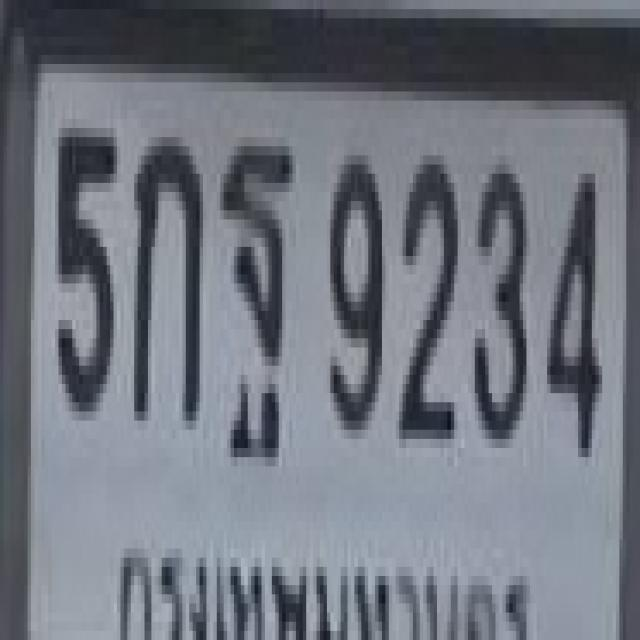2: (396, 151, 454, 434)
3: (471, 155, 523, 430)
4: (544, 165, 598, 448)
5: (55, 119, 114, 402)
9: (327, 146, 378, 421)
A01: (130, 128, 200, 411)
A16: (217, 137, 289, 421)
